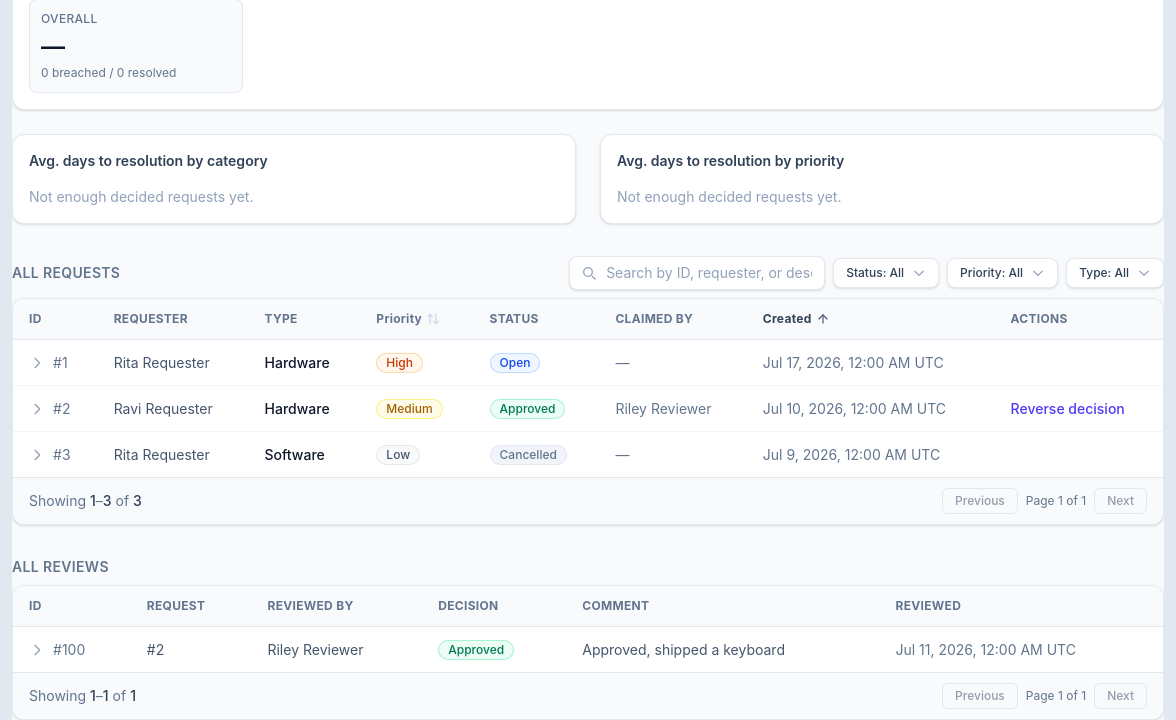
Test: AdminDashboardPage — expandable request/review detail › toggling one "All requests" row does not affect another row's expansion state
(page scrolled)
Click the text "#1": coordinates (37, 362) [29,354,68,370]
(page scrolled)
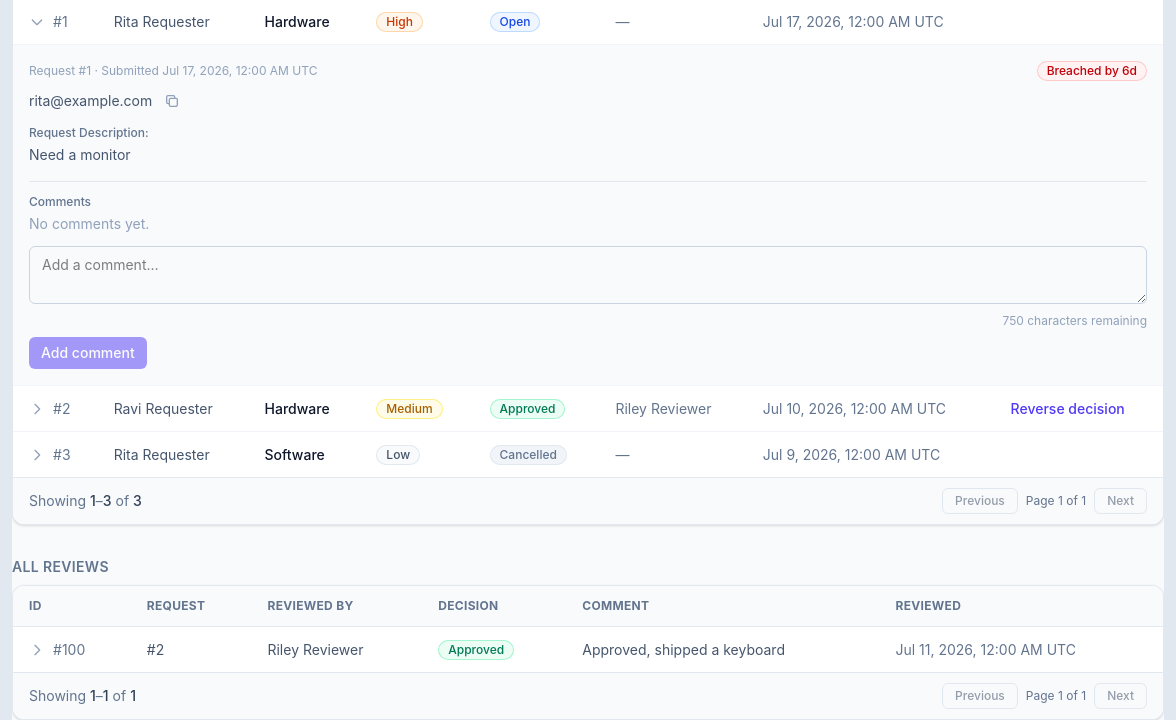
Result: the text "Need a monitor" is shown at [29,146,131,163]
Click the text "#2": coordinates (37, 408) [29,400,70,416]
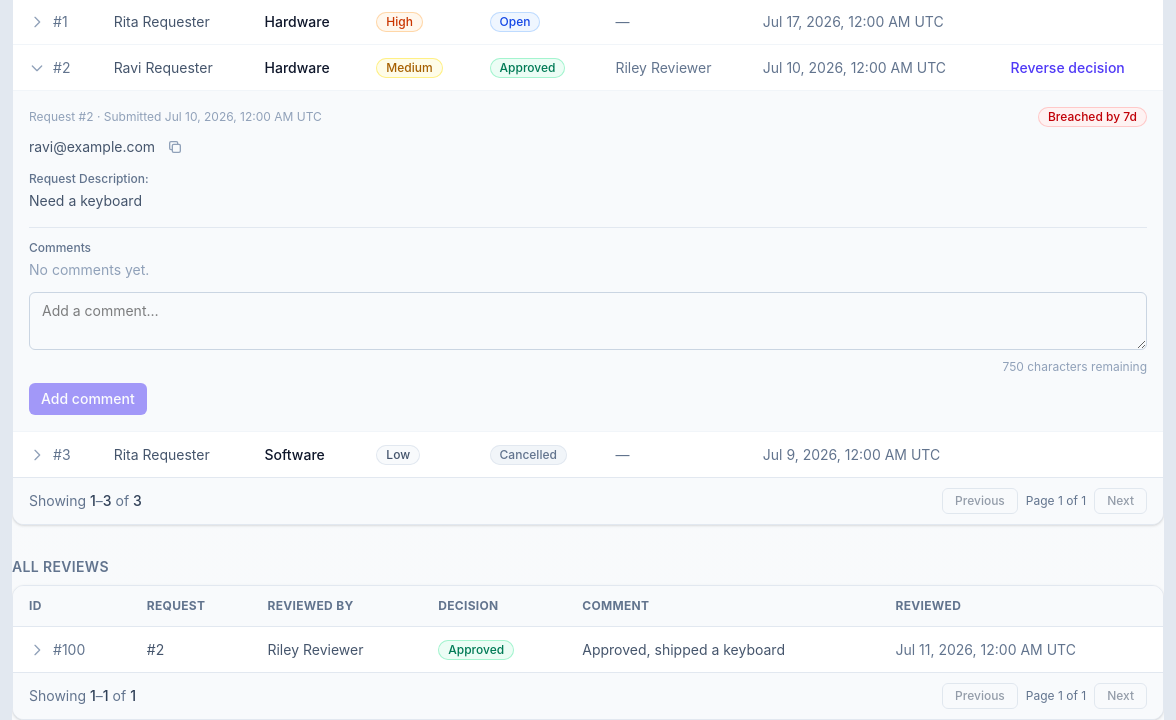
Result: the text "Need a keyboard" is shown at [29,192,142,209]
Result: the text "Need a monitor" is gone
